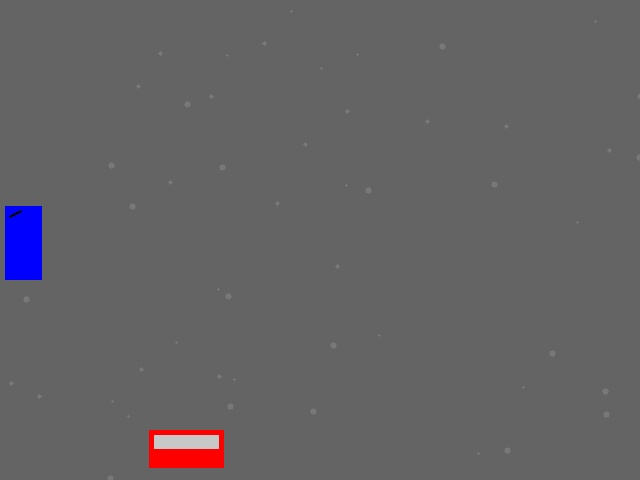car: (149, 430, 223, 467)
motorcycle: (5, 206, 41, 279)
